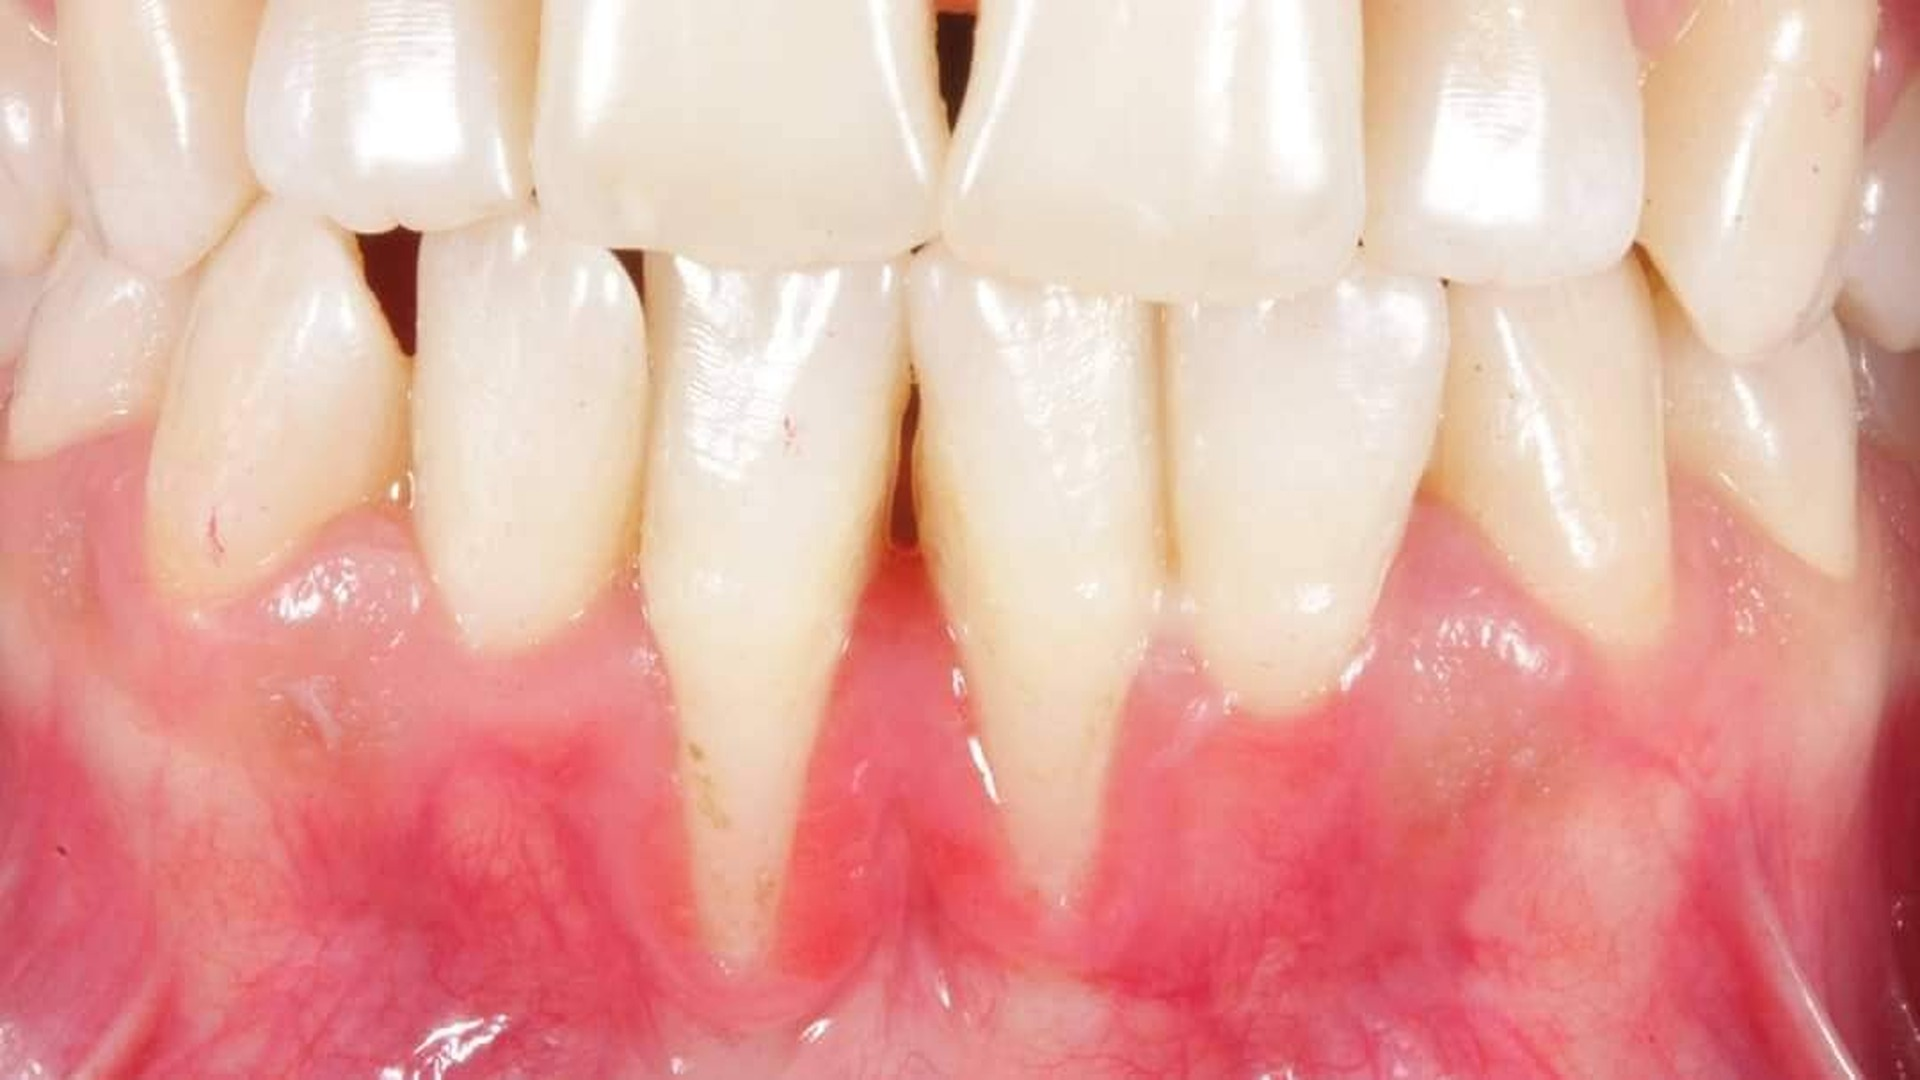tooth: (640, 251, 912, 976), (904, 240, 1173, 906), (874, 1, 1366, 307), (1162, 269, 1451, 720), (143, 195, 412, 618), (531, 1, 949, 272), (410, 216, 650, 657), (1420, 250, 1674, 653), (1634, 1, 1869, 360), (1360, 1, 1645, 287), (245, 1, 543, 235), (1658, 293, 1859, 582)
